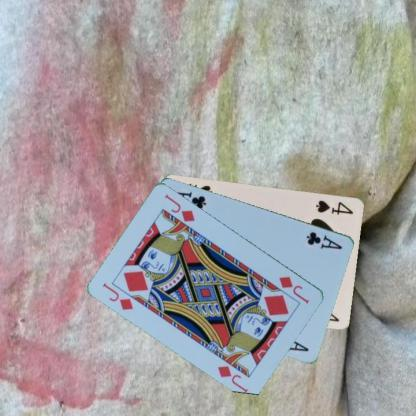4s: (314, 197, 354, 216)
Ac: (304, 229, 344, 250)
Jd: (100, 280, 135, 312), (277, 274, 311, 304)
